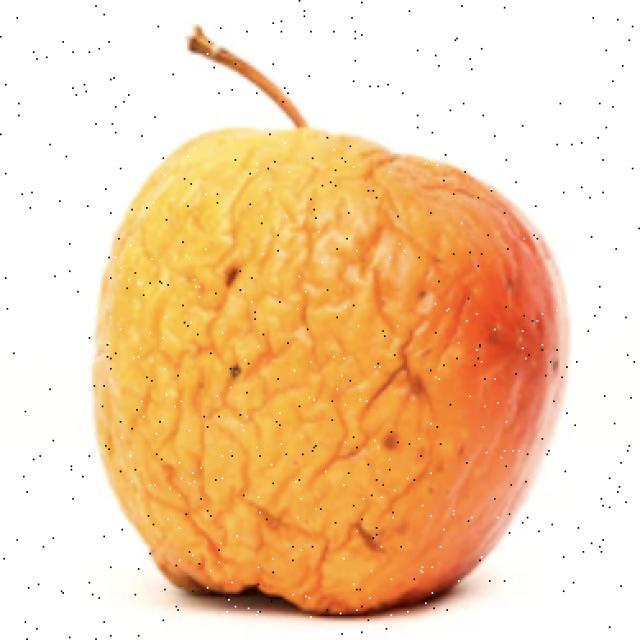Rotten: (107, 138, 555, 605)
